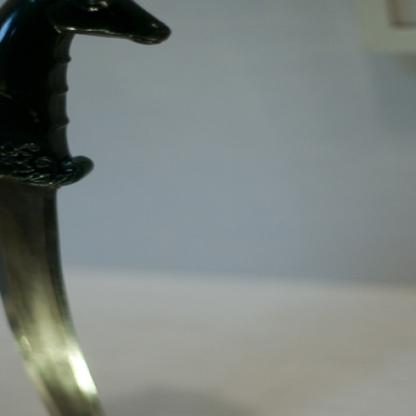knife: (0, 0, 171, 416)
